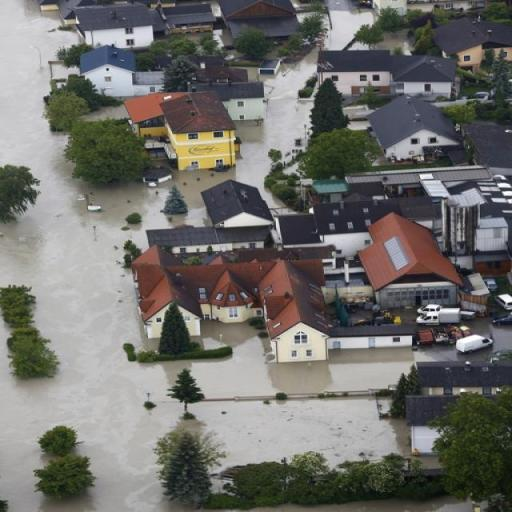flood: (192, 398, 410, 468), (416, 318, 512, 362), (251, 498, 474, 512), (326, 0, 375, 48), (373, 0, 489, 15), (376, 32, 413, 54), (344, 34, 370, 48)
house: (366, 214, 462, 305), (262, 263, 332, 363), (371, 93, 461, 161), (162, 90, 240, 168), (310, 193, 450, 235), (202, 176, 274, 228), (139, 279, 202, 336), (317, 48, 392, 94), (77, 4, 154, 48), (220, 0, 301, 38), (391, 52, 459, 96), (81, 44, 136, 96), (440, 19, 484, 67), (276, 208, 322, 250), (224, 83, 266, 123), (164, 3, 216, 34)
